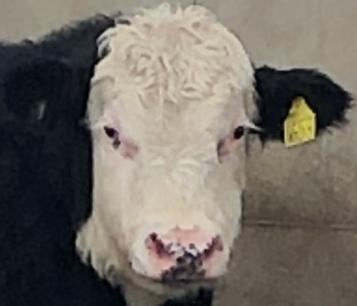muzzles: (130, 224, 232, 286)
